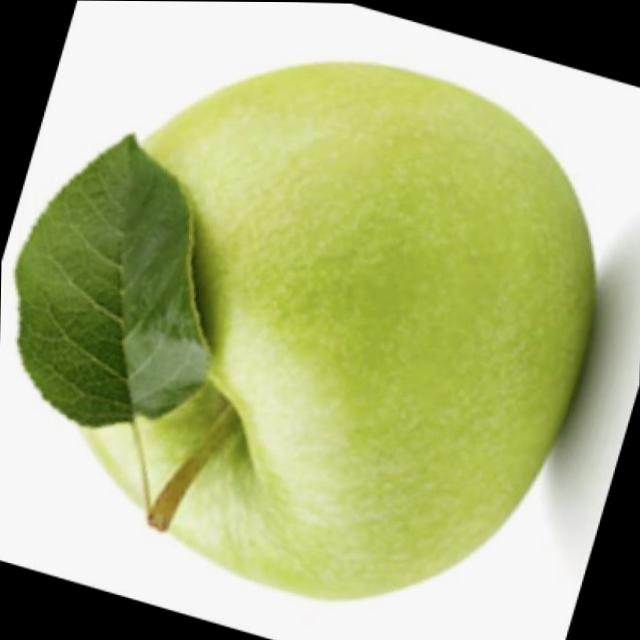Apple: (38, 50, 602, 607)
